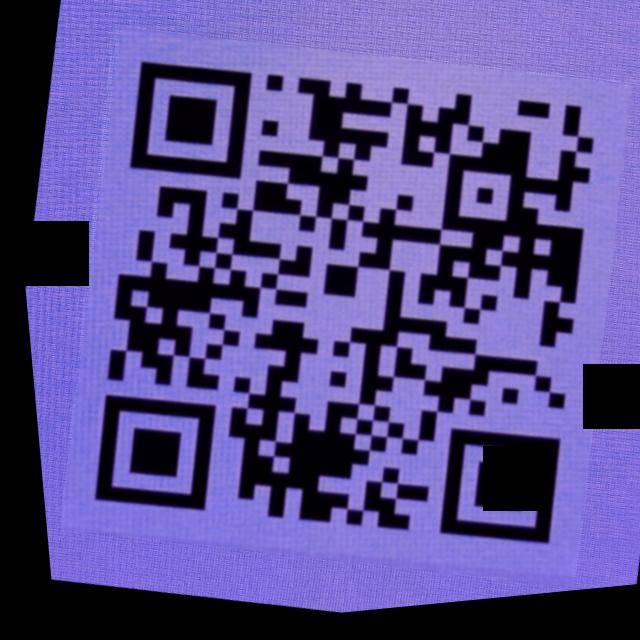QR_CODE: (16, 0, 640, 636)
